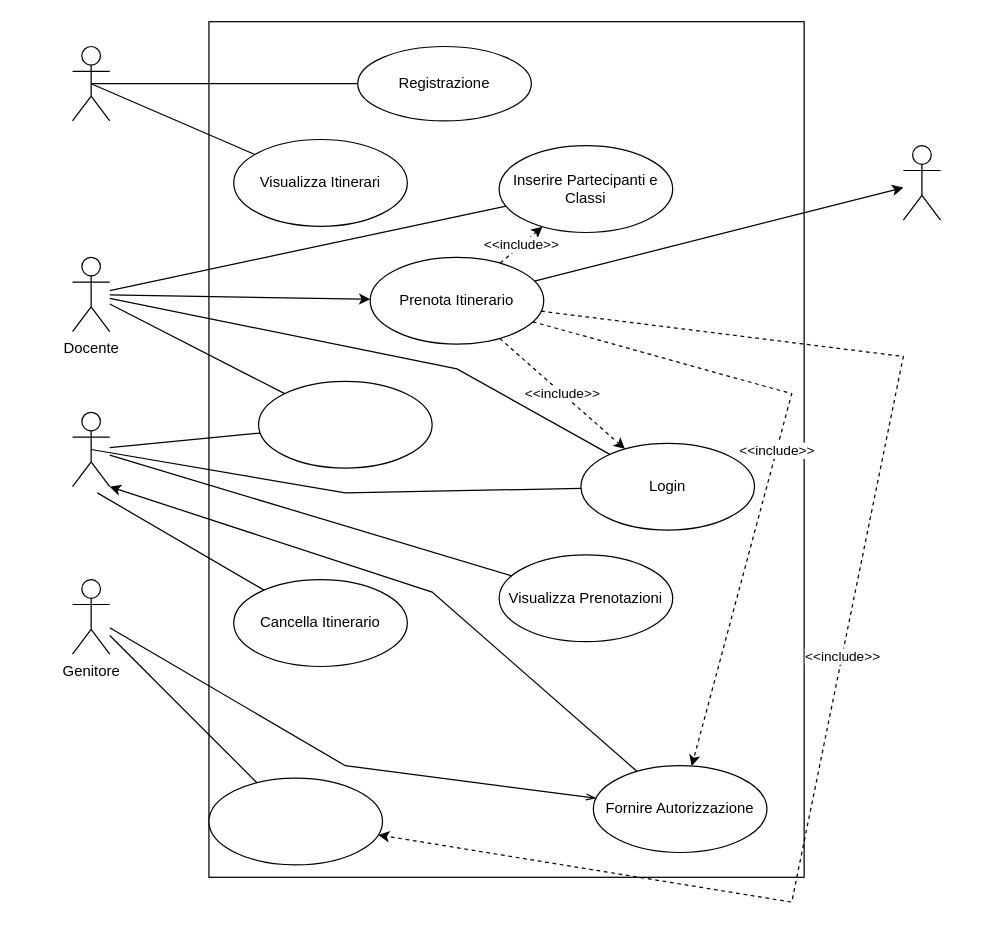
This 1001x934 diagram has some shape labels left out. Here are the shapes that lost their labels. From the top down, the box of each, then its label:
(71, 45, 110, 121): Utente non registrato
(902, 144, 941, 220): Sistema Bancario
(257, 380, 432, 468): Annulla Prenotazione
(71, 411, 110, 487): Admin
(208, 777, 383, 865): Pagamento Acconto
